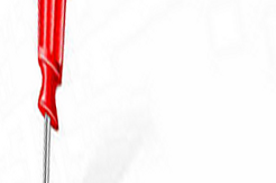Screwdriver: (28, 1, 72, 183)
